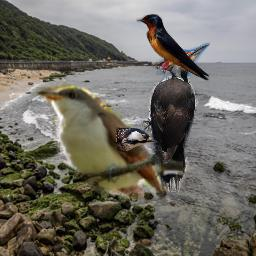Cuckoo: (31, 75, 183, 201)
Swallow: (136, 14, 210, 82)
Woodpecker: (136, 42, 214, 192), (116, 126, 158, 152)
